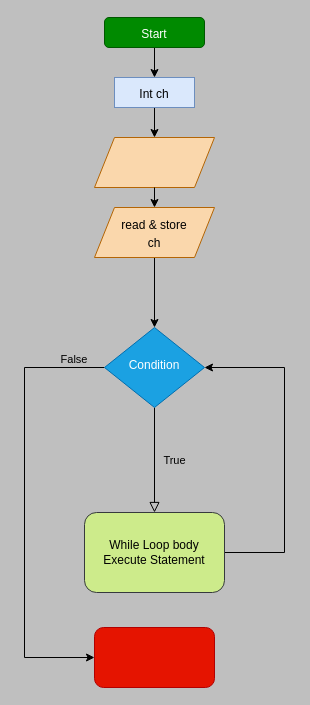
This 310x705 diagram has some shape labels left out. Here are the shapes that lost their labels. From the top down, the centre of each, then its label:
At point (154, 162): "Prompt user for input".
At point (154, 657): "Stop".
